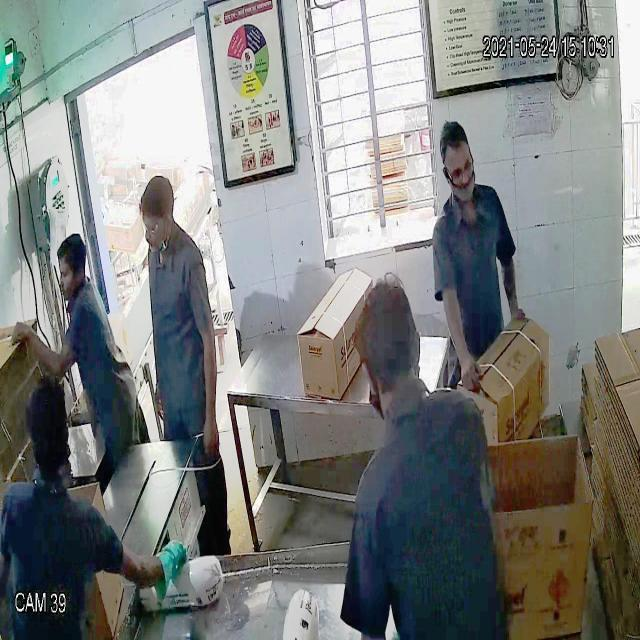glasses: (439, 152, 478, 188), (136, 210, 176, 237)
